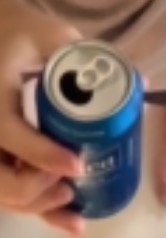tonica: (33, 42, 144, 219)
